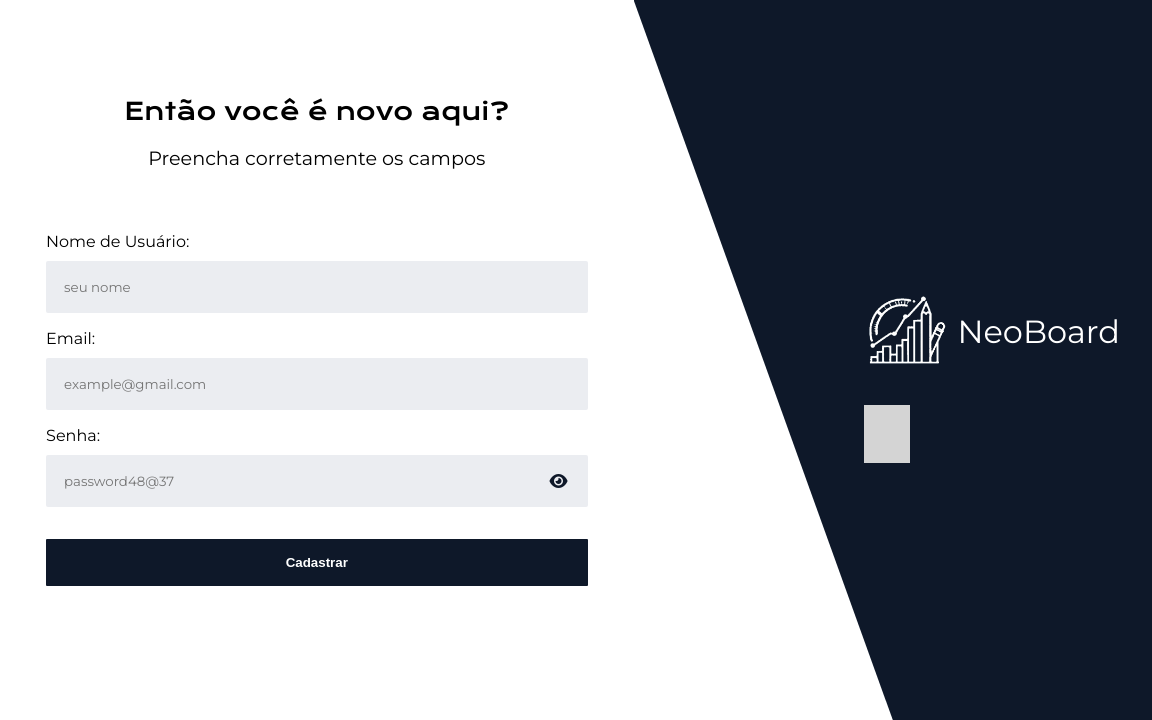
Teste de carregamento da página de login › Test submit empty registration
The width and height of the screenshot is (1152, 720).
Click the button with class "singup-btn" at {"x": 317, "y": 563}, box x1=46 y1=539 x2=587 y2=586
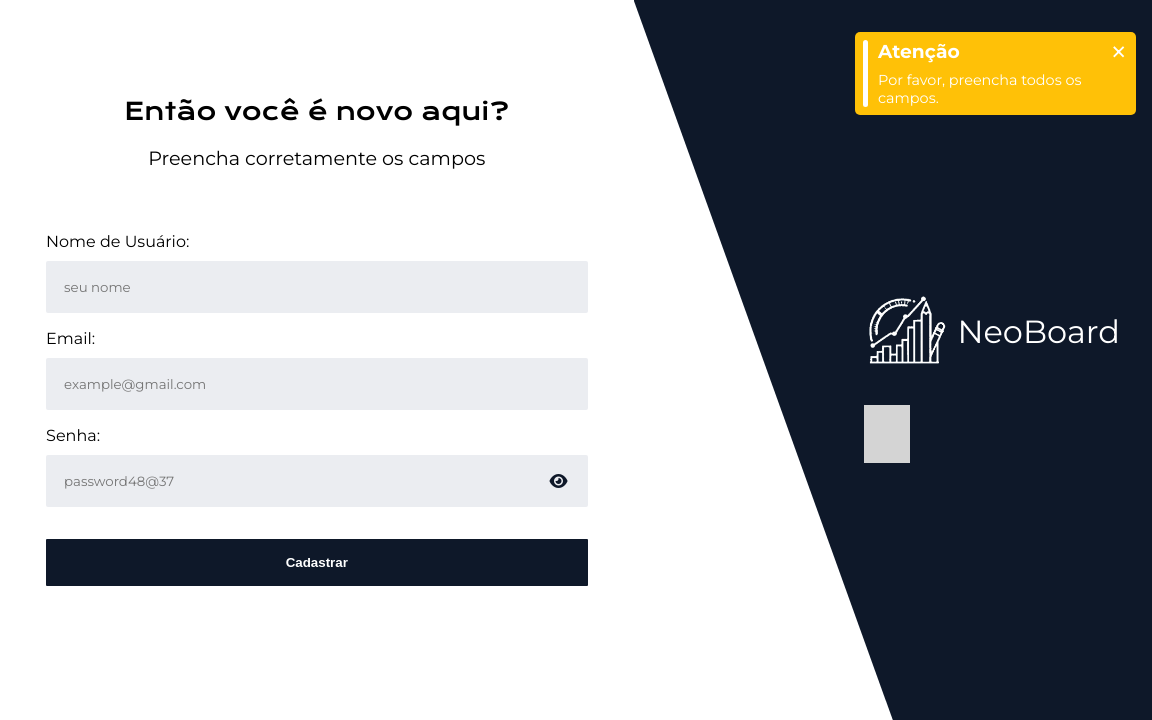
expect the heading "Atenção" is shown: met, box x1=878 y1=40 x2=1128 y2=63
